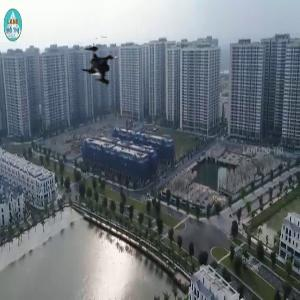drone: (74, 34, 140, 100)
